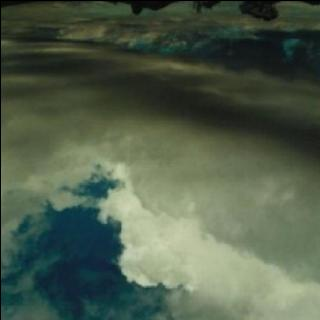Altocumulus: (0, 18, 320, 320)
